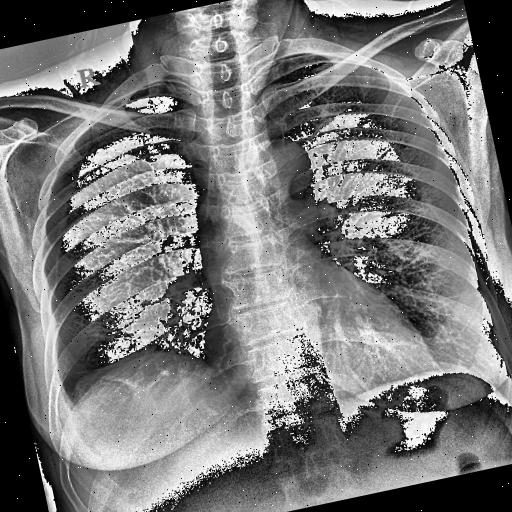1- Atelectasis: (44, 338, 206, 402)
10- Pleural effusion: (26, 352, 114, 446)
9- Other lesion: (38, 329, 248, 491)
